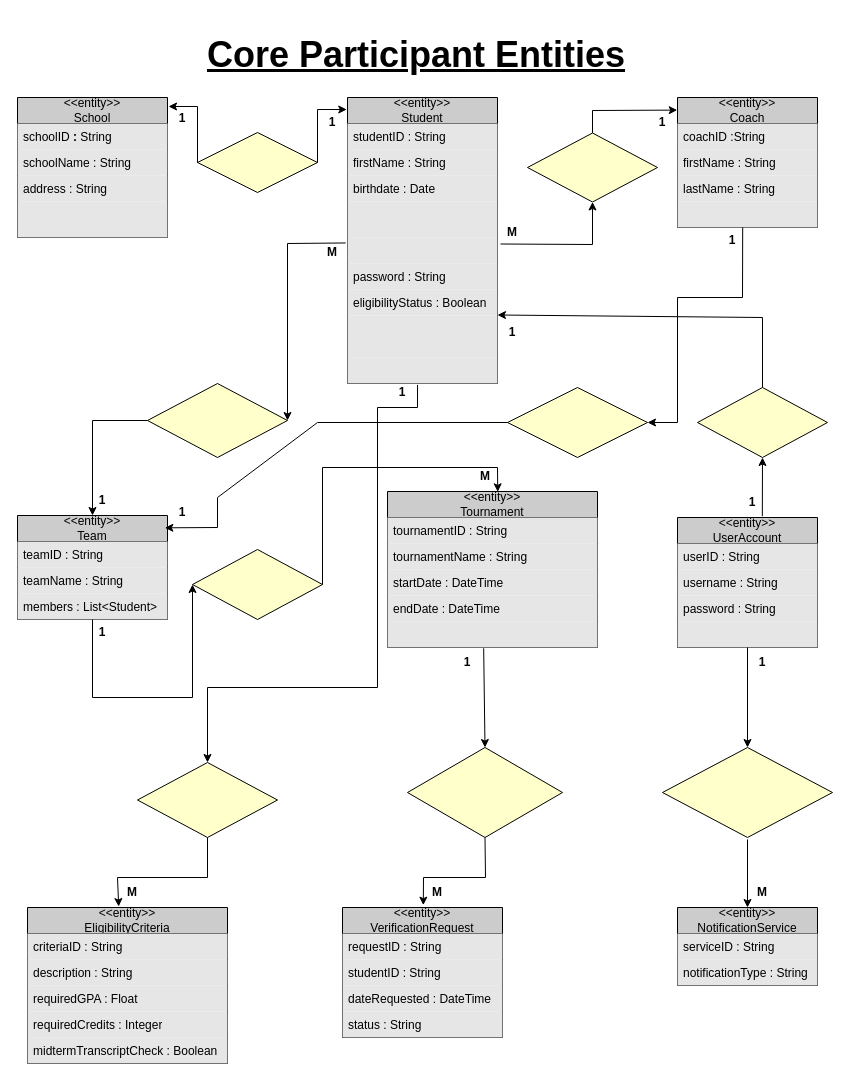
Some shapes in this 850 by 1083 pixel diagram are drawn without their labels. Each missing label, with the centre of its shape:
"Account Belongs To" belongs at pixel 762 422.
"Are Members Of" belongs at pixel 217 420.
"bestWayContact : String" belongs at pixel 747 214.
"Coaches" belongs at pixel 577 422.
"Competes In" belongs at pixel 257 584.
"currentEnrollmentStatus : String" belongs at pixel 422 336.
"eligibilityRequirements : List<EligibilityCriteria>" belongs at pixel 92 219.
"Is Attending" belongs at pixel 257 162.
"Is Coached By" belongs at pixel 592 167.
"Meets Criteria" belongs at pixel 207 800.
"memberID : String" belongs at pixel 422 370.
"Receives Notifications From" belongs at pixel 747 792.
"requirements : list<EligibilityCriteria>" belongs at pixel 492 634.
"Requires Verification For" belongs at pixel 484 792.
"role : String" belongs at pixel 747 634.
"schoolAttended : Type School" belongs at pixel 422 219.
"studentEmail : String" belongs at pixel 422 250.
